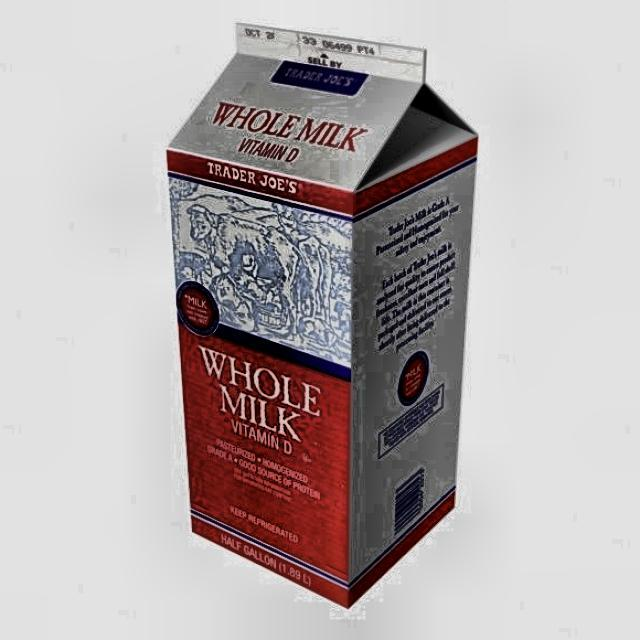cardboard: (164, 23, 479, 608)
